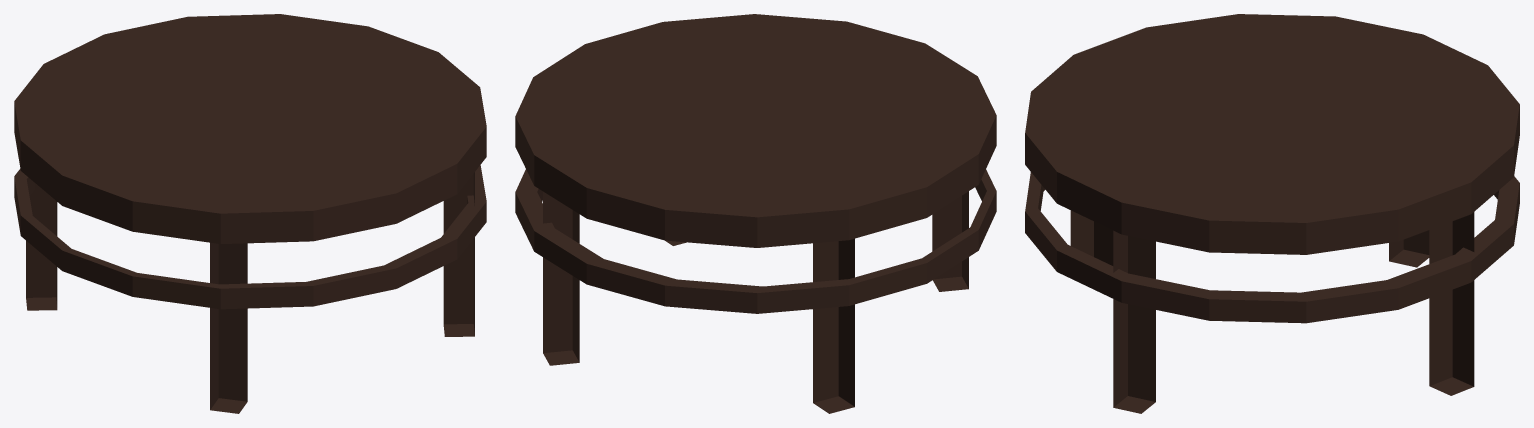
File: столик гостинная.fbx
3 renders of one model, left to right at view 1: azimuth 30°, elevation 25°; view 2: azimuth 150°, elevation 25°; view 3: azimuth 270°, elevation 25°, orthographic. The views are drawn at different scales.
Parts seen in each view (by area): view 1: Cylinder.023; view 2: Cylinder.023; view 3: Cylinder.023.
Part boxes in pixels (x1=…): Cylinder.023: x1=14, y1=14, x2=486, y2=413; Cylinder.023: x1=515, y1=14, x2=996, y2=413; Cylinder.023: x1=1025, y1=14, x2=1519, y2=413.
Bounding box in the file's own units: 799 × 380 × 799.
